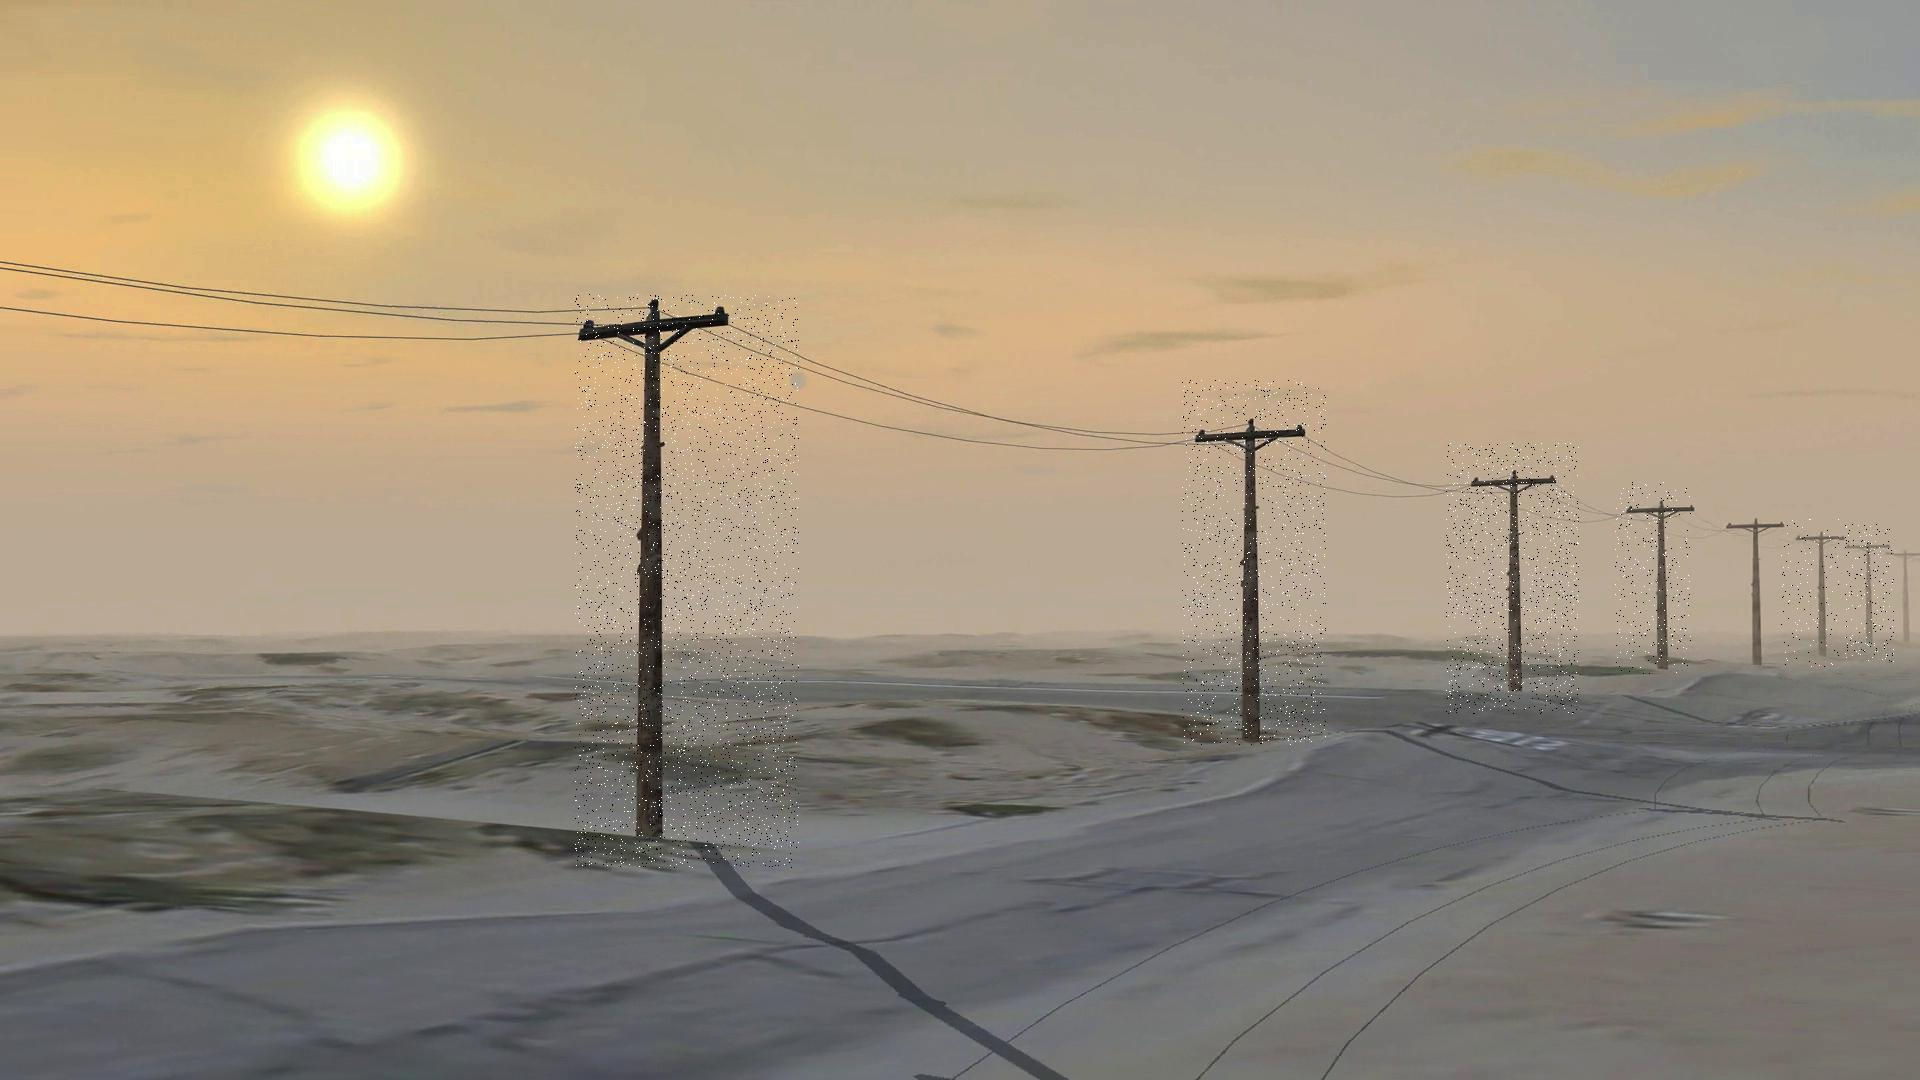cable tower: (574, 294, 798, 868), (1182, 380, 1325, 745), (1445, 444, 1578, 715), (1614, 483, 1691, 674), (1706, 504, 1780, 673), (1780, 520, 1838, 667), (1845, 525, 1894, 663)
